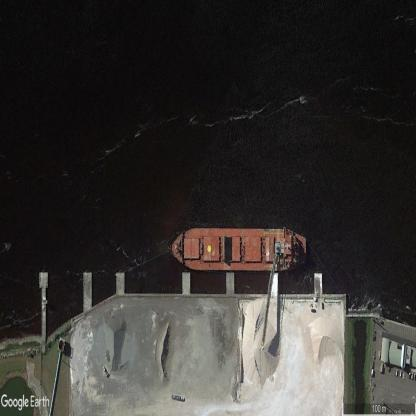ship: (170, 227, 308, 272)
